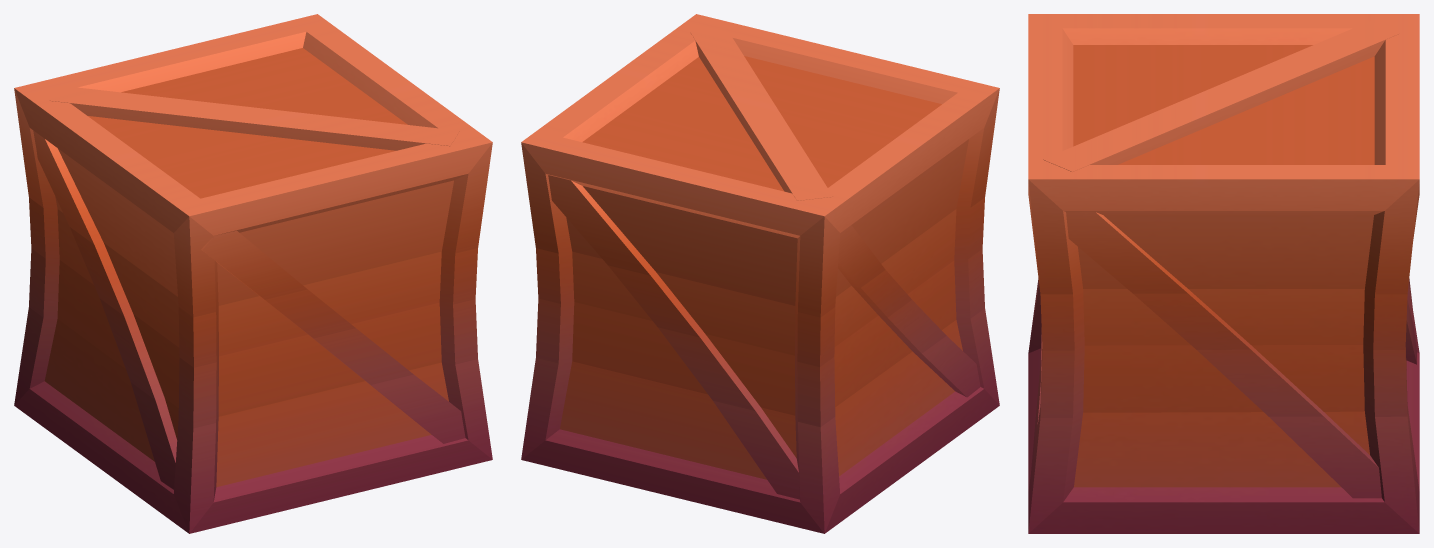
The picture shows the model from 3 angles, left to right: view 1: azimuth 30°, elevation 25°; view 2: azimuth 150°, elevation 25°; view 3: azimuth 270°, elevation 25°; orthographic projection. The views are drawn at different scales.
Visible parts, largest first — view 1: Cartoon Box; view 2: Cartoon Box; view 3: Cartoon Box.
Boxes of the visible parts, box(x1,y1,x2,y2) form: Cartoon Box: box(14, 14, 492, 533); Cartoon Box: box(521, 14, 999, 533); Cartoon Box: box(1028, 14, 1419, 533).
Size of the model in its own units: 126 by 126 by 126.
